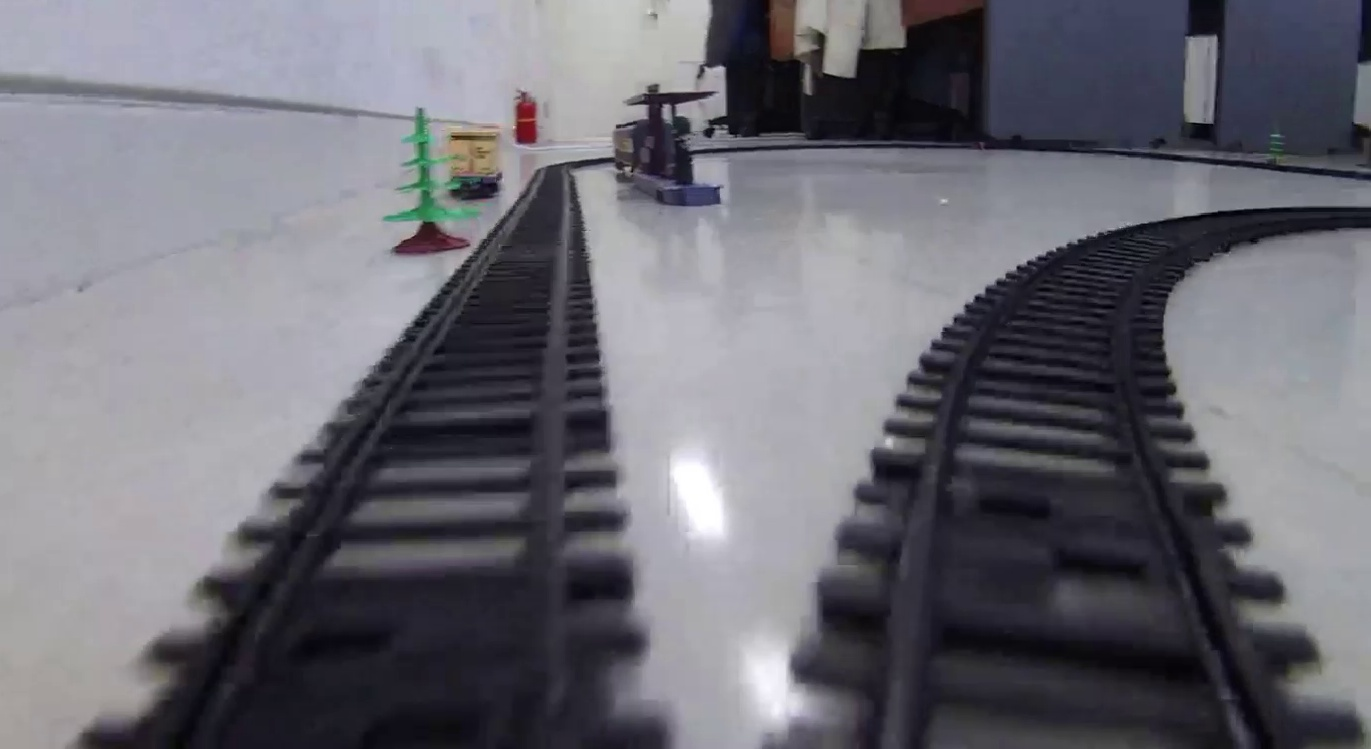tree: (382, 106, 474, 251)
